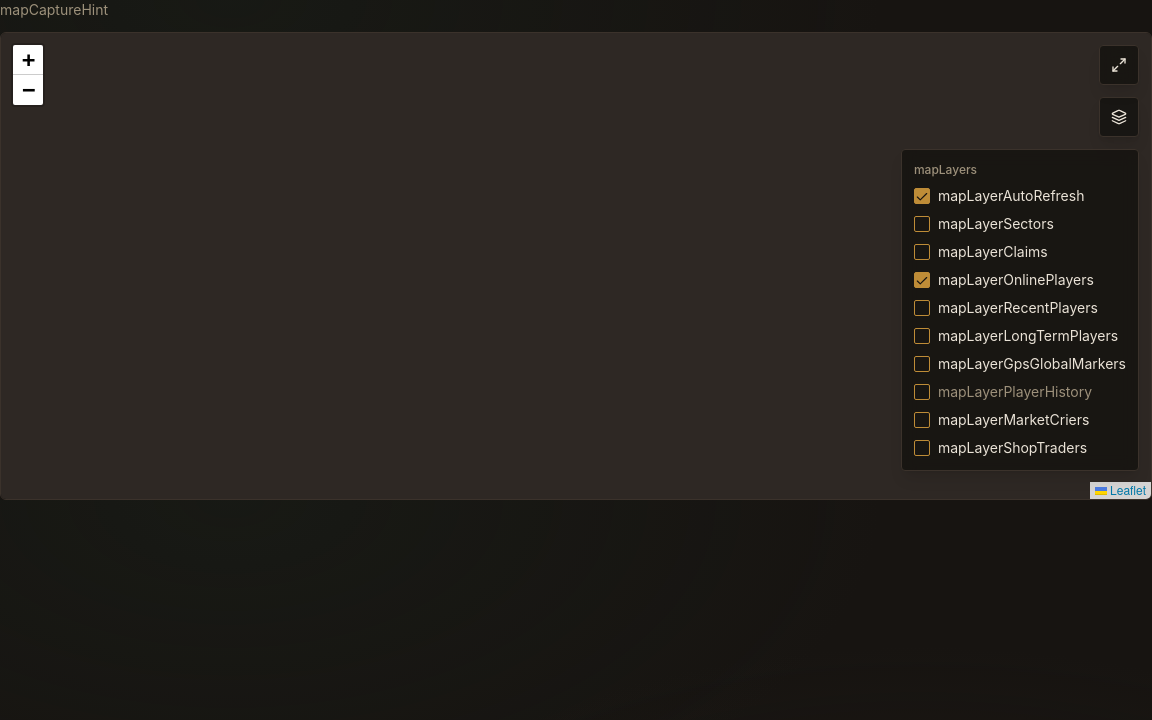
Test case: AdminMapTab › opens market-criers offers within the browser fullscreen element
What coordinates should you click on to do the following:
click the button named "mapExpandWindow"
I would click on:
 (1119, 65)
Its box is x1=1099 y1=45 x2=1139 y2=85.
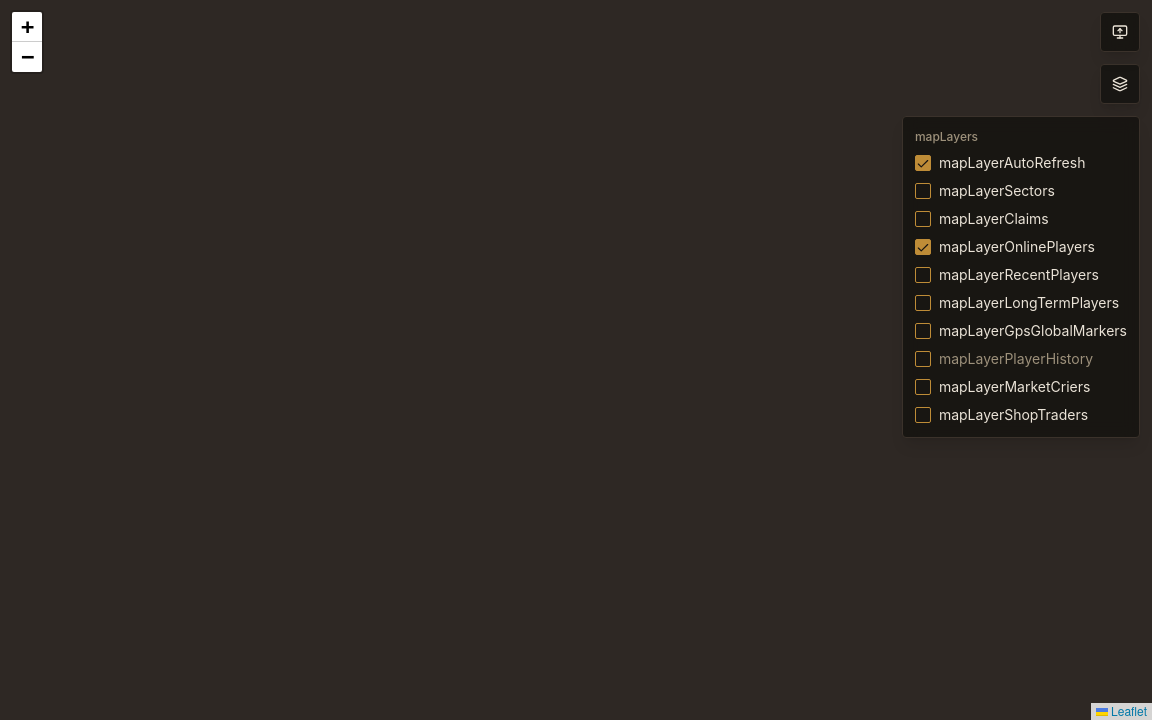
What coordinates should you click on to do the following:
click the button named "mapBrowserFullscreen"
I would click on:
 (1120, 32)
Its box is x1=1100 y1=12 x2=1140 y2=52.
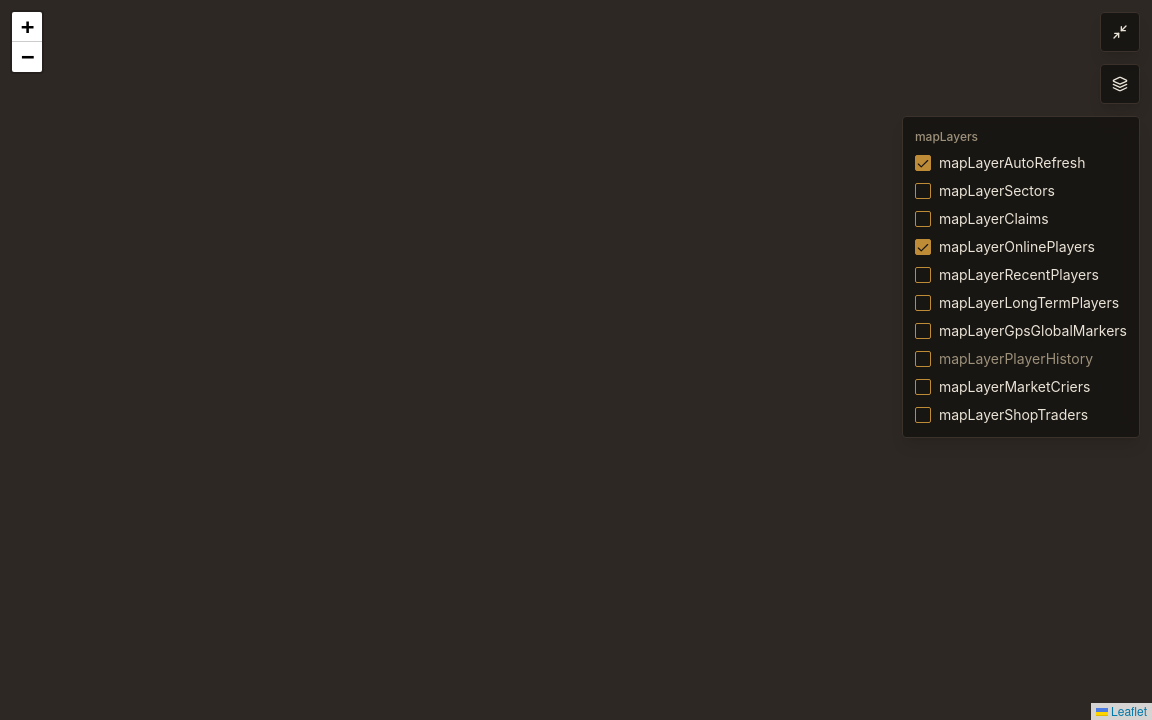
Expected: the button named "mapExitFullscreen" is shown, x1=1100 y1=12 x2=1140 y2=52
What coordinates should you click on to do the following:
click the checkbox named "mapLayerMarketCriers" next to "mapLayerMarketCriers"
I would click on:
 (923, 387)
Its box is x1=915 y1=379 x2=931 y2=395.
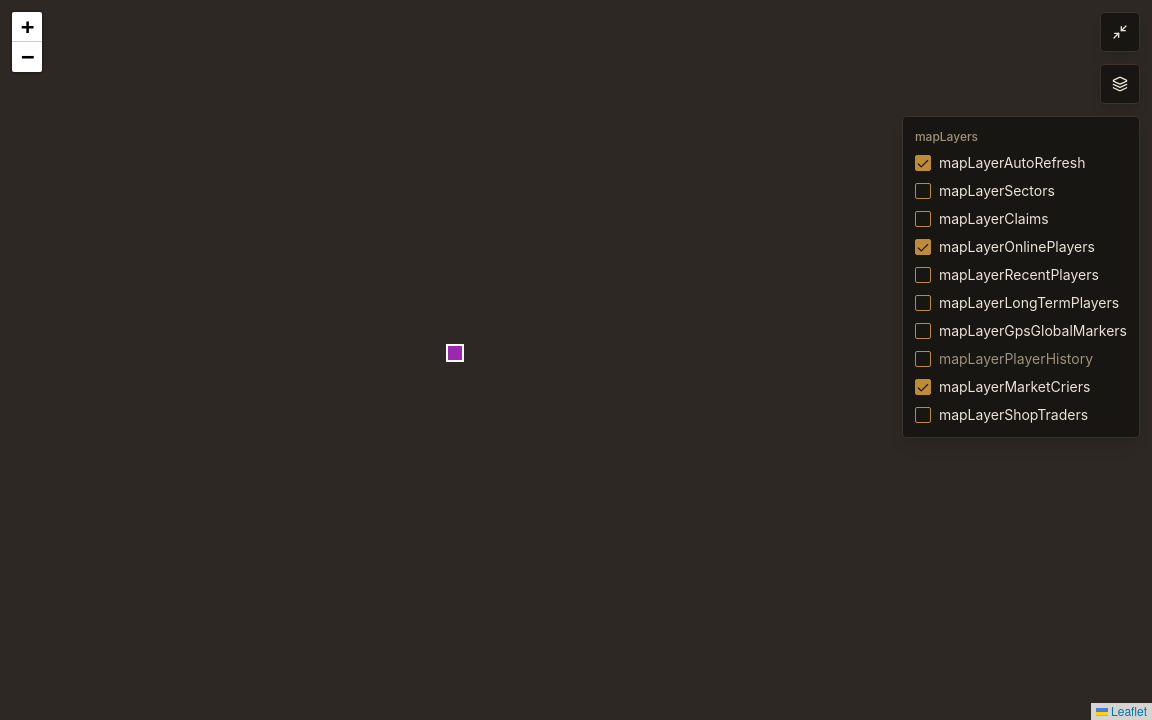
What coordinates should you click on to do the following:
click the button named "Market Crier"
I would click on:
 (455, 353)
Its box is x1=446 y1=344 x2=464 y2=362.
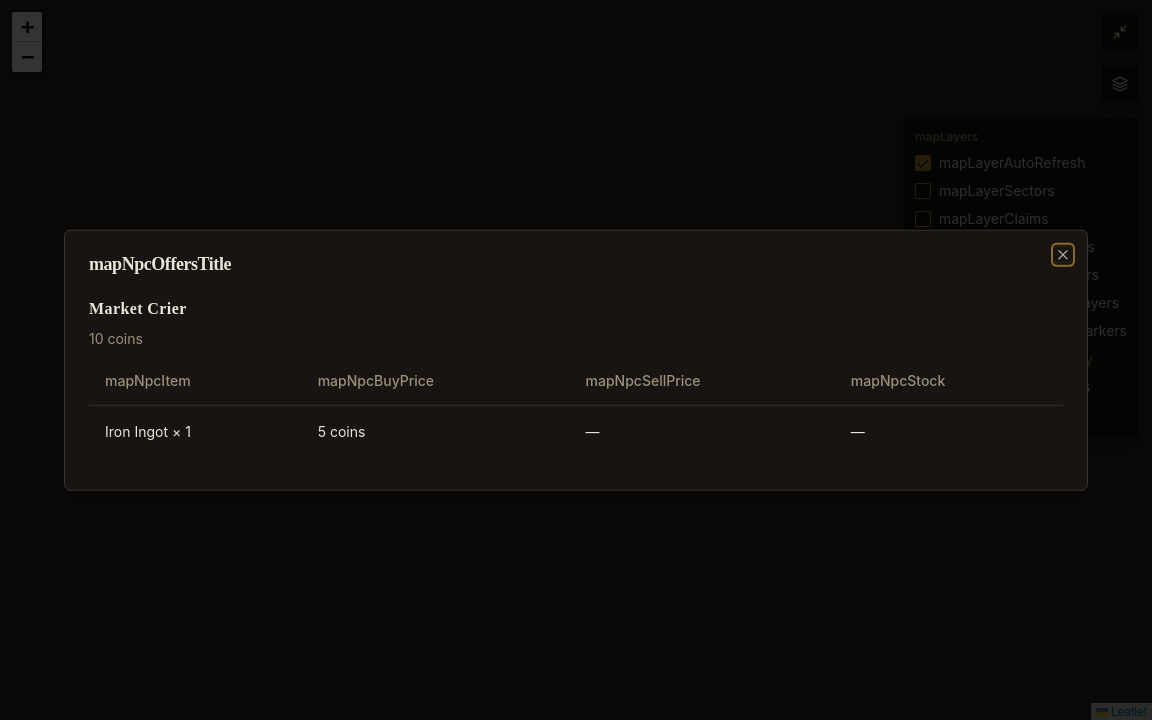
Expected: the dialog "mapNpcOffersTitle" shows "Iron Ingot", x1=105 y1=422 x2=168 y2=439
Expected: the dialog "mapNpcOffersTitle" shows "10 coins", x1=89 y1=330 x2=143 y2=347
